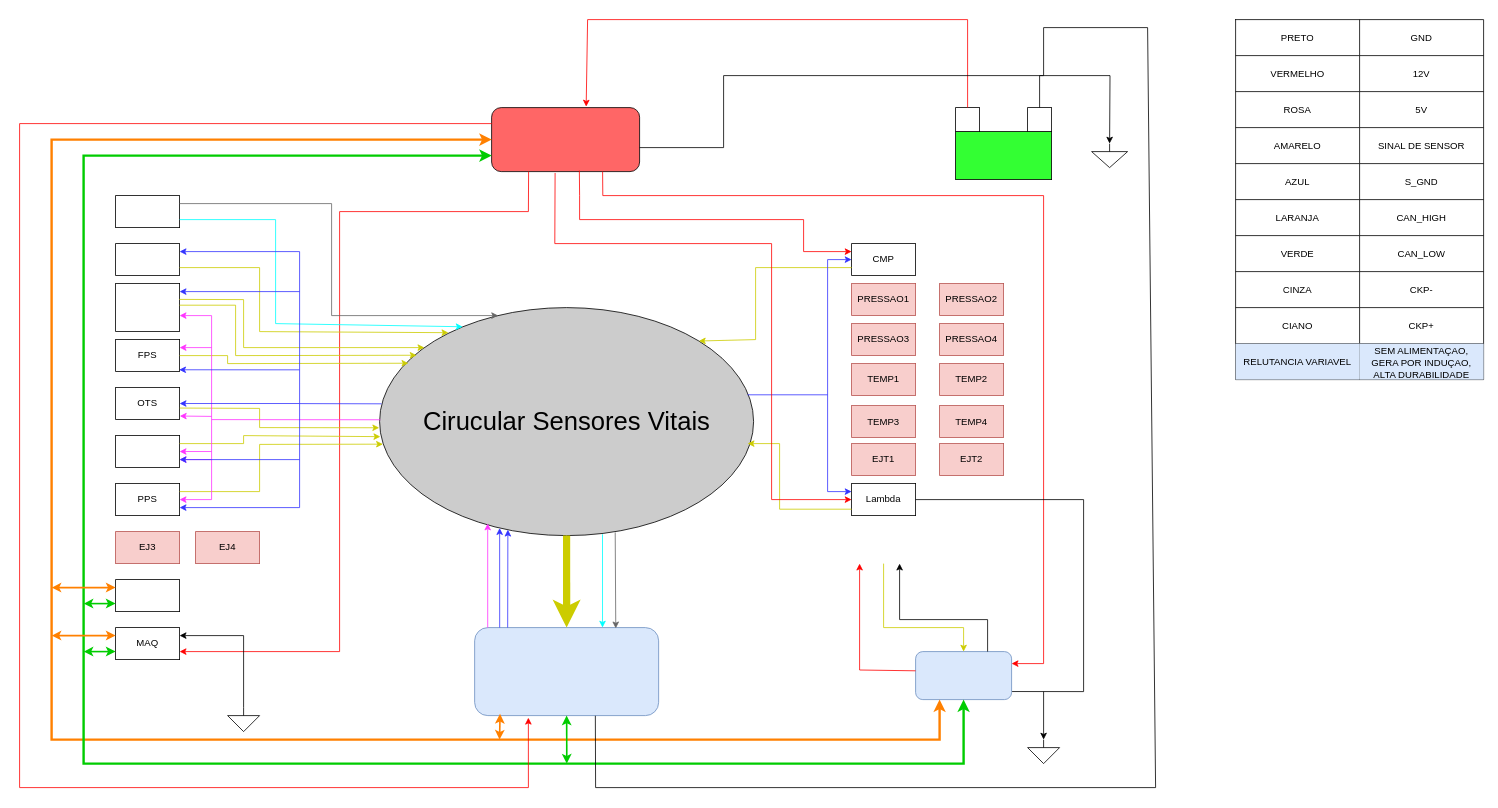
This 1498x808 diagram has some shape labels left out. Each missing label, with the box of its shape:
AIM EVO 4: (915, 651, 1012, 700)
BATERIA: (955, 131, 1052, 180)
CKP: (115, 195, 180, 228)
CLT: (115, 243, 180, 276)
EPC: (115, 579, 180, 612)
MS3 PRO: (474, 627, 659, 716)
OPS: (115, 435, 180, 468)
PDM: (491, 107, 640, 172)
TRIPLEX(tps map): (115, 283, 180, 332)
